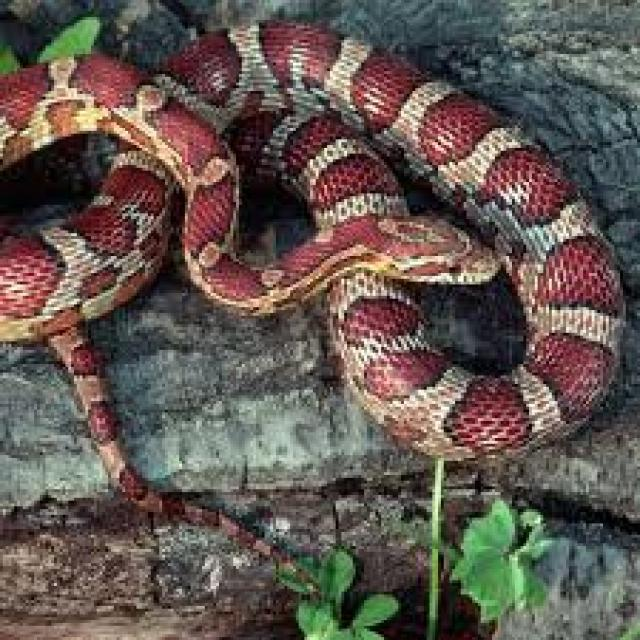Snake: (0, 16, 627, 480)
